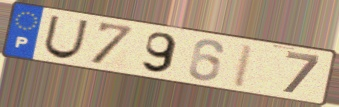6: (186, 38, 226, 82)
7: (88, 20, 136, 67), (280, 49, 324, 97)
9: (140, 31, 179, 75)
I: (229, 41, 257, 90)
U: (41, 13, 92, 60)
